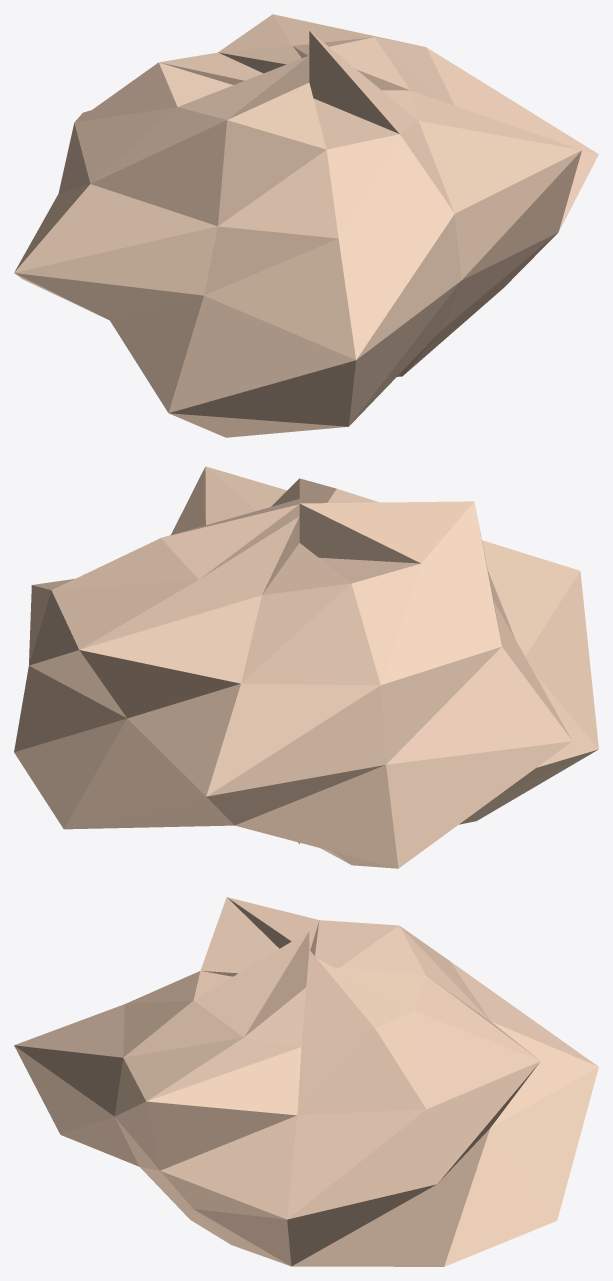
Rendered from rock_075.obj.
The picture shows the model from 3 angles, top to bottom: view 1: azimuth 30°, elevation 25°; view 2: azimuth 150°, elevation 25°; view 3: azimuth 270°, elevation 25°; orthographic projection. The views are drawn at different scales.
Size of the model in its own units: 1.53 by 0.9457 by 1.52.
